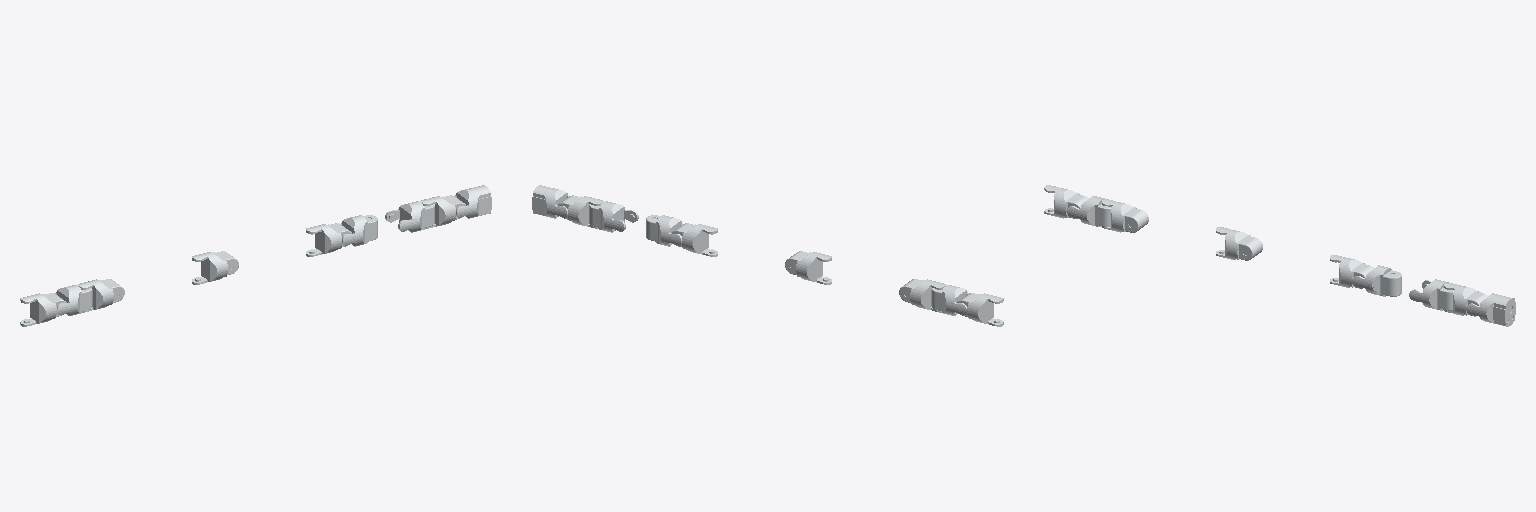
The robot description file, URDF, robot "kanake6_sim_0808_4.SLDASM":
<?xml version="1.0" encoding="utf-8"?>
<!-- This URDF was automatically created by SolidWorks to URDF Exporter! Originally created by Stephen Brawner (brawner@gmail.com) 
     Commit Version: 1.6.0-1-g15f4949  Build Version: 1.6.7594.29634
     For more information, please see http://wiki.ros.org/sw_urdf_exporter -->
<robot
  name="kanake6_sim_0808_4.SLDASM">
  <link
    name="head">
    <inertial>
      <origin
        xyz="-0.0202156710748115 -1.43465418462842E-07 -1.56480055908645E-06"
        rpy="0 0 0" />
      <mass
        value="0.0366319470948477" />
      <inertia
        ixx="6.20591511809944E-06"
        ixy="-5.30087560675052E-11"
        ixz="1.18696434390736E-09"
        iyy="8.25464507263961E-06"
        iyz="-2.13167538413562E-10"
        izz="7.9841166433742E-06" />
    </inertial>
    <visual>
      <origin
        xyz="0 0 0"
        rpy="0 0 0" />
      <geometry>
        <mesh
          filename="package://kanake6_sim_0808_4.SLDASM/meshes/head.STL" />
      </geometry>
      <material
        name="">
        <color
          rgba="0.894117647058823 0.913725490196078 0.929411764705882 1" />
      </material>
    </visual>
    <collision>
      <origin
        xyz="0 0 0"
        rpy="0 0 0" />
      <geometry>
        <mesh
          filename="package://kanake6_sim_0808_4.SLDASM/meshes/head.STL" />
      </geometry>
    </collision>
  </link>
  <link
    name="Link1">
    <inertial>
      <origin
        xyz="-0.0149144121017575 -3.73601402370638E-07 2.49693079046398E-08"
        rpy="0 0 0" />
      <mass
        value="0.0712511533582805" />
      <inertia
        ixx="1.04159884007023E-05"
        ixy="1.86218037779566E-10"
        ixz="-3.01043285853867E-11"
        iyy="1.64748507384434E-05"
        iyz="-1.82879175460889E-10"
        izz="1.64641321531213E-05" />
    </inertial>
    <visual>
      <origin
        xyz="0 0 0"
        rpy="0 0 0" />
      <geometry>
        <mesh
          filename="package://kanake6_sim_0808_4.SLDASM/meshes/Link1.STL" />
      </geometry>
      <material
        name="">
        <color
          rgba="0.894117647058823 0.913725490196078 0.929411764705882 1" />
      </material>
    </visual>
    <collision>
      <origin
        xyz="0 0 0"
        rpy="0 0 0" />
      <geometry>
        <mesh
          filename="package://kanake6_sim_0808_4.SLDASM/meshes/Link1.STL" />
      </geometry>
    </collision>
  </link>
  <joint
    name="j1"
    type="revolute">
    <origin
      xyz="-0.0473500000047962 0 0"
      rpy="-1.5707963267949 0 0" />
    <parent
      link="head" />
    <child
      link="Link1" />
    <axis
      xyz="0 0 1" />
    <limit
      lower="0"
      upper="0"
      effort="0"
      velocity="0" />
  </joint>
  <link
    name="Link2">
    <inertial>
      <origin
        xyz="-0.0149144121027439 3.73601402673656E-07 -2.49693082275148E-08"
        rpy="0 0 0" />
      <mass
        value="0.0712511533582804" />
      <inertia
        ixx="1.04159884007023E-05"
        ixy="-1.86218037781345E-10"
        ixz="3.01043285841085E-11"
        iyy="1.64748507384434E-05"
        iyz="-1.8287917545946E-10"
        izz="1.64641321531213E-05" />
    </inertial>
    <visual>
      <origin
        xyz="0 0 0"
        rpy="0 0 0" />
      <geometry>
        <mesh
          filename="package://kanake6_sim_0808_4.SLDASM/meshes/Link2.STL" />
      </geometry>
      <material
        name="">
        <color
          rgba="0.894117647058823 0.913725490196078 0.929411764705882 1" />
      </material>
    </visual>
    <collision>
      <origin
        xyz="0 0 0"
        rpy="0 0 0" />
      <geometry>
        <mesh
          filename="package://kanake6_sim_0808_4.SLDASM/meshes/Link2.STL" />
      </geometry>
    </collision>
  </link>
  <joint
    name="j2"
    type="revolute">
    <origin
      xyz="-0.0426 0 0"
      rpy="1.5707963267949 0 0" />
    <parent
      link="Link1" />
    <child
      link="Link2" />
    <axis
      xyz="0 0 1" />
    <limit
      lower="0"
      upper="0"
      effort="0"
      velocity="0" />
  </joint>
  <link
    name="Link3">
    <inertial>
      <origin
        xyz="-0.0149144121037305 -3.73601402389964E-07 2.49693078994172E-08"
        rpy="0 0 0" />
      <mass
        value="0.0712511533582807" />
      <inertia
        ixx="1.04159884007024E-05"
        ixy="1.86218037778639E-10"
        ixz="-3.01043285855072E-11"
        iyy="1.64748507384434E-05"
        iyz="-1.8287917546012E-10"
        izz="1.64641321531213E-05" />
    </inertial>
    <visual>
      <origin
        xyz="0 0 0"
        rpy="0 0 0" />
      <geometry>
        <mesh
          filename="package://kanake6_sim_0808_4.SLDASM/meshes/Link3.STL" />
      </geometry>
      <material
        name="">
        <color
          rgba="0.894117647058823 0.913725490196078 0.929411764705882 1" />
      </material>
    </visual>
    <collision>
      <origin
        xyz="0 0 0"
        rpy="0 0 0" />
      <geometry>
        <mesh
          filename="package://kanake6_sim_0808_4.SLDASM/meshes/Link3.STL" />
      </geometry>
    </collision>
  </link>
  <joint
    name="j3"
    type="revolute">
    <origin
      xyz="-0.0426 0 0"
      rpy="-1.5707963267949 0 0" />
    <parent
      link="Link2" />
    <child
      link="Link3" />
    <axis
      xyz="0 0 1" />
    <limit
      lower="0"
      upper="0"
      effort="0"
      velocity="0" />
  </joint>
  <link
    name="Link4">
    <inertial>
      <origin
        xyz="-0.014914412104717 3.73601402679989E-07 -2.49693078684838E-08"
        rpy="0 0 0" />
      <mass
        value="0.0712511533582804" />
      <inertia
        ixx="1.04159884007023E-05"
        ixy="-1.86218037781387E-10"
        ixz="3.01043285846702E-11"
        iyy="1.64748507384434E-05"
        iyz="-1.82879175459146E-10"
        izz="1.64641321531213E-05" />
    </inertial>
    <visual>
      <origin
        xyz="0 0 0"
        rpy="0 0 0" />
      <geometry>
        <mesh
          filename="package://kanake6_sim_0808_4.SLDASM/meshes/Link4.STL" />
      </geometry>
      <material
        name="">
        <color
          rgba="0.894117647058823 0.913725490196078 0.929411764705882 1" />
      </material>
    </visual>
    <collision>
      <origin
        xyz="0 0 0"
        rpy="0 0 0" />
      <geometry>
        <mesh
          filename="package://kanake6_sim_0808_4.SLDASM/meshes/Link4.STL" />
      </geometry>
    </collision>
  </link>
  <joint
    name="j4"
    type="revolute">
    <origin
      xyz="-0.0426000000000001 0 0"
      rpy="1.5707963267949 0 0" />
    <parent
      link="Link3" />
    <child
      link="Link4" />
    <axis
      xyz="0 0 1" />
    <limit
      lower="0"
      upper="0"
      effort="0"
      velocity="0" />
  </joint>
  <link
    name="Link5">
    <inertial>
      <origin
        xyz="-0.0149144121057032 -3.73601402771206E-07 2.49693078958993E-08"
        rpy="0 0 0" />
      <mass
        value="0.0712511533582805" />
      <inertia
        ixx="1.04159884007023E-05"
        ixy="1.86218037769402E-10"
        ixz="-3.01043285813447E-11"
        iyy="1.64748507384434E-05"
        iyz="-1.82879175458866E-10"
        izz="1.64641321531213E-05" />
    </inertial>
    <visual>
      <origin
        xyz="0 0 0"
        rpy="0 0 0" />
      <geometry>
        <mesh
          filename="package://kanake6_sim_0808_4.SLDASM/meshes/Link5.STL" />
      </geometry>
      <material
        name="">
        <color
          rgba="0.894117647058823 0.913725490196078 0.929411764705882 1" />
      </material>
    </visual>
    <collision>
      <origin
        xyz="0 0 0"
        rpy="0 0 0" />
      <geometry>
        <mesh
          filename="package://kanake6_sim_0808_4.SLDASM/meshes/Link5.STL" />
      </geometry>
    </collision>
  </link>
  <joint
    name="j5"
    type="revolute">
    <origin
      xyz="-0.0426 0 0"
      rpy="-1.5707963267949 0 0" />
    <parent
      link="Link4" />
    <child
      link="Link5" />
    <axis
      xyz="0 0 1" />
    <limit
      lower="0"
      upper="0"
      effort="0"
      velocity="0" />
  </joint>
  <link
    name="Link6">
    <inertial>
      <origin
        xyz="-0.0149144121066896 3.73601402685979E-07 -2.49693064988724E-08"
        rpy="0 0 0" />
      <mass
        value="0.0712511533582805" />
      <inertia
        ixx="1.04159884007023E-05"
        ixy="-1.86218037775192E-10"
        ixz="3.01043285873544E-11"
        iyy="1.64748507384434E-05"
        iyz="-1.82879175459083E-10"
        izz="1.64641321531214E-05" />
    </inertial>
    <visual>
      <origin
        xyz="0 0 0"
        rpy="0 0 0" />
      <geometry>
        <mesh
          filename="package://kanake6_sim_0808_4.SLDASM/meshes/Link6.STL" />
      </geometry>
      <material
        name="">
        <color
          rgba="0.894117647058823 0.913725490196078 0.929411764705882 1" />
      </material>
    </visual>
    <collision>
      <origin
        xyz="0 0 0"
        rpy="0 0 0" />
      <geometry>
        <mesh
          filename="package://kanake6_sim_0808_4.SLDASM/meshes/Link6.STL" />
      </geometry>
    </collision>
  </link>
  <joint
    name="j6"
    type="revolute">
    <origin
      xyz="-0.0426 0 0"
      rpy="1.5708 0 0" />
    <parent
      link="Link5" />
    <child
      link="Link6" />
    <axis
      xyz="0 0 1" />
    <limit
      lower="0"
      upper="0"
      effort="0"
      velocity="0" />
  </joint>
  <link
    name="Link7">
    <inertial>
      <origin
        xyz="-0.014914412107676 -3.73601404135501E-07 2.49693078945668E-08"
        rpy="0 0 0" />
      <mass
        value="0.0712511533582806" />
      <inertia
        ixx="1.04159884007023E-05"
        ixy="1.86218037787259E-10"
        ixz="-3.01043285861876E-11"
        iyy="1.64748507384434E-05"
        iyz="-1.82879175460281E-10"
        izz="1.64641321531214E-05" />
    </inertial>
    <visual>
      <origin
        xyz="0 0 0"
        rpy="0 0 0" />
      <geometry>
        <mesh
          filename="package://kanake6_sim_0808_4.SLDASM/meshes/Link7.STL" />
      </geometry>
      <material
        name="">
        <color
          rgba="0.894117647058823 0.913725490196078 0.929411764705882 1" />
      </material>
    </visual>
    <collision>
      <origin
        xyz="0 0 0"
        rpy="0 0 0" />
      <geometry>
        <mesh
          filename="package://kanake6_sim_0808_4.SLDASM/meshes/Link7.STL" />
      </geometry>
    </collision>
  </link>
  <joint
    name="j7"
    type="revolute">
    <origin
      xyz="-0.0426 0 0"
      rpy="-1.5707963267949 0 0" />
    <parent
      link="Link6" />
    <child
      link="Link7" />
    <axis
      xyz="0 0 1" />
    <limit
      lower="0"
      upper="0"
      effort="0"
      velocity="0" />
  </joint>
  <link
    name="Link8">
    <inertial>
      <origin
        xyz="-0.0149144121086625 3.73601402681106E-07 -2.49693065571068E-08"
        rpy="0 0 0" />
      <mass
        value="0.0712511533582805" />
      <inertia
        ixx="1.04159884007023E-05"
        ixy="-1.86218037774057E-10"
        ixz="3.01043285848922E-11"
        iyy="1.64748507384434E-05"
        iyz="-1.82879175459633E-10"
        izz="1.64641321531214E-05" />
    </inertial>
    <visual>
      <origin
        xyz="0 0 0"
        rpy="0 0 0" />
      <geometry>
        <mesh
          filename="package://kanake6_sim_0808_4.SLDASM/meshes/Link8.STL" />
      </geometry>
      <material
        name="">
        <color
          rgba="0.894117647058823 0.913725490196078 0.929411764705882 1" />
      </material>
    </visual>
    <collision>
      <origin
        xyz="0 0 0"
        rpy="0 0 0" />
      <geometry>
        <mesh
          filename="package://kanake6_sim_0808_4.SLDASM/meshes/Link8.STL" />
      </geometry>
    </collision>
  </link>
  <joint
    name="j8"
    type="revolute">
    <origin
      xyz="-0.0426 0 0"
      rpy="1.5707963267949 0 0" />
    <parent
      link="Link7" />
    <child
      link="Link8" />
    <axis
      xyz="0 0 1" />
    <limit
      lower="0"
      upper="0"
      effort="0"
      velocity="0" />
  </joint>
  <link
    name="Link9">
    <inertial>
      <origin
        xyz="-0.0149144121096488 -3.73601403966509E-07 2.49693079023524E-08"
        rpy="0 0 0" />
      <mass
        value="0.0712511533582805" />
      <inertia
        ixx="1.04159884007023E-05"
        ixy="1.86218037784249E-10"
        ixz="-3.01043285852313E-11"
        iyy="1.64748507384434E-05"
        iyz="-1.82879175458617E-10"
        izz="1.64641321531213E-05" />
    </inertial>
    <visual>
      <origin
        xyz="0 0 0"
        rpy="0 0 0" />
      <geometry>
        <mesh
          filename="package://kanake6_sim_0808_4.SLDASM/meshes/Link9.STL" />
      </geometry>
      <material
        name="">
        <color
          rgba="0.894117647058823 0.913725490196078 0.929411764705882 1" />
      </material>
    </visual>
    <collision>
      <origin
        xyz="0 0 0"
        rpy="0 0 0" />
      <geometry>
        <mesh
          filename="package://kanake6_sim_0808_4.SLDASM/meshes/Link9.STL" />
      </geometry>
    </collision>
  </link>
  <joint
    name="j9"
    type="revolute">
    <origin
      xyz="-0.0426 0 0"
      rpy="-1.5707963267949 0 0" />
    <parent
      link="Link8" />
    <child
      link="Link9" />
    <axis
      xyz="0 0 1" />
    <limit
      lower="0"
      upper="0"
      effort="0"
      velocity="0" />
  </joint>
  <link
    name="Link10">
    <inertial>
      <origin
        xyz="-0.0149144121106352 3.73601402682021E-07 -2.49693066177178E-08"
        rpy="0 0 0" />
      <mass
        value="0.0712511533582806" />
      <inertia
        ixx="1.04159884007023E-05"
        ixy="-1.86218037776686E-10"
        ixz="3.01043285870288E-11"
        iyy="1.64748507384434E-05"
        iyz="-1.82879175460266E-10"
        izz="1.64641321531214E-05" />
    </inertial>
    <visual>
      <origin
        xyz="0 0 0"
        rpy="0 0 0" />
      <geometry>
        <mesh
          filename="package://kanake6_sim_0808_4.SLDASM/meshes/Link10.STL" />
      </geometry>
      <material
        name="">
        <color
          rgba="0.894117647058823 0.913725490196078 0.929411764705882 1" />
      </material>
    </visual>
    <collision>
      <origin
        xyz="0 0 0"
        rpy="0 0 0" />
      <geometry>
        <mesh
          filename="package://kanake6_sim_0808_4.SLDASM/meshes/Link10.STL" />
      </geometry>
    </collision>
  </link>
  <joint
    name="j10"
    type="revolute">
    <origin
      xyz="-0.0426 0 0"
      rpy="1.5707963267949 0 0" />
    <parent
      link="Link9" />
    <child
      link="Link10" />
    <axis
      xyz="0 0 1" />
    <limit
      lower="0"
      upper="0"
      effort="0"
      velocity="0" />
  </joint>
  <link
    name="Link11">
    <inertial>
      <origin
        xyz="-0.0149144121016217 -3.73601403947252E-07 2.49693079064027E-08"
        rpy="0 0 0" />
      <mass
        value="0.0712511533582805" />
      <inertia
        ixx="1.04159884007023E-05"
        ixy="1.86218037780712E-10"
        ixz="-3.01043285810132E-11"
        iyy="1.64748507384434E-05"
        iyz="-1.82879175458604E-10"
        izz="1.64641321531213E-05" />
    </inertial>
    <visual>
      <origin
        xyz="0 0 0"
        rpy="0 0 0" />
      <geometry>
        <mesh
          filename="package://kanake6_sim_0808_4.SLDASM/meshes/Link11.STL" />
      </geometry>
      <material
        name="">
        <color
          rgba="0.894117647058823 0.913725490196078 0.929411764705882 1" />
      </material>
    </visual>
    <collision>
      <origin
        xyz="0 0 0"
        rpy="0 0 0" />
      <geometry>
        <mesh
          filename="package://kanake6_sim_0808_4.SLDASM/meshes/Link11.STL" />
      </geometry>
    </collision>
  </link>
  <joint
    name="j11"
    type="revolute">
    <origin
      xyz="-0.04260000001 0 0"
      rpy="-1.5707963267949 0 0" />
    <parent
      link="Link10" />
    <child
      link="Link11" />
    <axis
      xyz="0 0 1" />
    <limit
      lower="0"
      upper="0"
      effort="0"
      velocity="0" />
  </joint>
  <link
    name="Link12">
    <inertial>
      <origin
        xyz="-0.0149144121026081 3.7360140266623E-07 -2.49693066434054E-08"
        rpy="0 0 0" />
      <mass
        value="0.0712511533582805" />
      <inertia
        ixx="1.04159884007023E-05"
        ixy="-1.86218037778163E-10"
        ixz="3.01043285854559E-11"
        iyy="1.64748507384434E-05"
        iyz="-1.82879175458545E-10"
        izz="1.64641321531213E-05" />
    </inertial>
    <visual>
      <origin
        xyz="0 0 0"
        rpy="0 0 0" />
      <geometry>
        <mesh
          filename="package://kanake6_sim_0808_4.SLDASM/meshes/Link12.STL" />
      </geometry>
      <material
        name="">
        <color
          rgba="0.894117647058823 0.913725490196078 0.929411764705882 1" />
      </material>
    </visual>
    <collision>
      <origin
        xyz="0 0 0"
        rpy="0 0 0" />
      <geometry>
        <mesh
          filename="package://kanake6_sim_0808_4.SLDASM/meshes/Link12.STL" />
      </geometry>
    </collision>
  </link>
  <joint
    name="j12"
    type="revolute">
    <origin
      xyz="-0.0426 0 0"
      rpy="1.5707963267949 0 0" />
    <parent
      link="Link11" />
    <child
      link="Link12" />
    <axis
      xyz="0 0 1" />
    <limit
      lower="0"
      upper="0"
      effort="0"
      velocity="0" />
  </joint>
  <link
    name="Link13">
    <inertial>
      <origin
        xyz="-0.0149144121035945 -3.73601403985894E-07 2.4969307889184E-08"
        rpy="0 0 0" />
      <mass
        value="0.0712511533582805" />
      <inertia
        ixx="1.04159884007023E-05"
        ixy="1.86218037769167E-10"
        ixz="-3.01043285852837E-11"
        iyy="1.64748507384434E-05"
        iyz="-1.82879175459957E-10"
        izz="1.64641321531214E-05" />
    </inertial>
    <visual>
      <origin
        xyz="0 0 0"
        rpy="0 0 0" />
      <geometry>
        <mesh
          filename="package://kanake6_sim_0808_4.SLDASM/meshes/Link13.STL" />
      </geometry>
      <material
        name="">
        <color
          rgba="0.894117647058823 0.913725490196078 0.929411764705882 1" />
      </material>
    </visual>
    <collision>
      <origin
        xyz="0 0 0"
        rpy="0 0 0" />
      <geometry>
        <mesh
          filename="package://kanake6_sim_0808_4.SLDASM/meshes/Link13.STL" />
      </geometry>
    </collision>
  </link>
  <joint
    name="j13"
    type="revolute">
    <origin
      xyz="-0.0426 0 0"
      rpy="-1.5707963267949 0 0" />
    <parent
      link="Link12" />
    <child
      link="Link13" />
    <axis
      xyz="0 0 1" />
    <limit
      lower="0"
      upper="0"
      effort="0"
      velocity="0" />
  </joint>
  <link
    name="Link14">
    <inertial>
      <origin
        xyz="-0.014914412104581 3.7360140268683E-07 -2.49693066062861E-08"
        rpy="0 0 0" />
      <mass
        value="0.0712511533582805" />
      <inertia
        ixx="1.04159884007023E-05"
        ixy="-1.86218037776627E-10"
        ixz="3.01043285849108E-11"
        iyy="1.64748507384434E-05"
        iyz="-1.82879175460148E-10"
        izz="1.64641321531214E-05" />
    </inertial>
    <visual>
      <origin
        xyz="0 0 0"
        rpy="0 0 0" />
      <geometry>
        <mesh
          filename="package://kanake6_sim_0808_4.SLDASM/meshes/Link14.STL" />
      </geometry>
      <material
        name="">
        <color
          rgba="0.894117647058823 0.913725490196078 0.929411764705882 1" />
      </material>
    </visual>
    <collision>
      <origin
        xyz="0 0 0"
        rpy="0 0 0" />
      <geometry>
        <mesh
          filename="package://kanake6_sim_0808_4.SLDASM/meshes/Link14.STL" />
      </geometry>
    </collision>
  </link>
  <joint
    name="j14"
    type="revolute">
    <origin
      xyz="-0.0426 0 0"
      rpy="1.5707963267949 0 0" />
    <parent
      link="Link13" />
    <child
      link="Link14" />
    <axis
      xyz="0 0 1" />
    <limit
      lower="0"
      upper="0"
      effort="0"
      velocity="0" />
  </joint>
  <link
    name="Link15">
    <inertial>
      <origin
        xyz="-0.0149144121055674 -3.73601403994292E-07 2.49693079071226E-08"
        rpy="0 0 0" />
      <mass
        value="0.0712511533582805" />
      <inertia
        ixx="1.04159884007023E-05"
        ixy="1.86218037776854E-10"
        ixz="-3.01043285841821E-11"
        iyy="1.64748507384434E-05"
        iyz="-1.82879175458843E-10"
        izz="1.64641321531214E-05" />
    </inertial>
    <visual>
      <origin
        xyz="0 0 0"
        rpy="0 0 0" />
      <geometry>
        <mesh
          filename="package://kanake6_sim_0808_4.SLDASM/meshes/Link15.STL" />
      </geometry>
      <material
        name="">
        <color
          rgba="0.894117647058823 0.913725490196078 0.929411764705882 1" />
      </material>
    </visual>
    <collision>
      <origin
        xyz="0 0 0"
        rpy="0 0 0" />
      <geometry>
        <mesh
          filename="package://kanake6_sim_0808_4.SLDASM/meshes/Link15.STL" />
      </geometry>
    </collision>
  </link>
  <joint
    name="j15"
    type="revolute">
    <origin
      xyz="-0.0426 0 0"
      rpy="-1.5707963267949 0 0" />
    <parent
      link="Link14" />
    <child
      link="Link15" />
    <axis
      xyz="0 0 1" />
    <limit
      lower="0"
      upper="0"
      effort="0"
      velocity="0" />
  </joint>
  <link
    name="tail">
    <inertial>
      <origin
        xyz="-0.029369081482287 -1.78870155543698E-06 -7.22138155213988E-09"
        rpy="0 0 0" />
      <mass
        value="0.101630885268055" />
      <inertia
        ixx="1.48846790268216E-05"
        ixy="3.12521137612277E-09"
        ixz="-1.03182631288335E-12"
        iyy="4.61731081327436E-05"
        iyz="-1.31870601123907E-09"
        izz="4.52018388107927E-05" />
    </inertial>
    <visual>
      <origin
        xyz="0 0 0"
        rpy="0 0 0" />
      <geometry>
        <mesh
          filename="package://kanake6_sim_0808_4.SLDASM/meshes/tail.STL" />
      </geometry>
      <material
        name="">
        <color
          rgba="0.894117647058823 0.913725490196078 0.929411764705882 1" />
      </material>
    </visual>
    <collision>
      <origin
        xyz="0 0 0"
        rpy="0 0 0" />
      <geometry>
        <mesh
          filename="package://kanake6_sim_0808_4.SLDASM/meshes/tail.STL" />
      </geometry>
    </collision>
  </link>
  <joint
    name="j16"
    type="revolute">
    <origin
      xyz="-0.0426 0 0"
      rpy="1.5707963267949 0 0" />
    <parent
      link="Link15" />
    <child
      link="tail" />
    <axis
      xyz="0 0 1" />
    <limit
      lower="0"
      upper="0"
      effort="0"
      velocity="0" />
  </joint>
</robot>

--- Render facts (derived) ---
The picture shows the robot from 3 angles, left to right: view 1: azimuth 30°, elevation 25°; view 2: azimuth 150°, elevation 25°; view 3: azimuth 330°, elevation 25°; orthographic projection.
Robot: kanake6_sim_0808_4.SLDASM — 17 links, 16 joints (16 revolute); root link head; default pose: every joint at zero.
Visible links, largest first — view 1: Link2, Link9, Link15, Link5, head, Link4, Link14, Link13, Link1; view 2: Link2, Link9, Link15, Link5, head, Link4, Link14, Link13, Link1; view 3: head, Link4, Link9, Link13, Link2, Link14, Link15, Link5, Link1.
Link boxes in pixels (box(x1,y1,x2,y2)): Link2: box(385, 201, 434, 232); Link9: box(192, 251, 238, 284); Link15: box(20, 293, 66, 326); Link5: box(306, 223, 351, 256); head: box(455, 185, 491, 218); Link4: box(341, 215, 377, 246); Link14: box(55, 285, 92, 315); Link13: box(78, 279, 124, 312); Link1: box(420, 195, 465, 228); Link2: box(589, 201, 638, 232); Link9: box(785, 251, 831, 284); Link15: box(957, 293, 1003, 326); Link5: box(672, 223, 717, 256); head: box(532, 185, 568, 218); Link4: box(646, 215, 682, 246); Link14: box(931, 285, 968, 315); Link13: box(899, 279, 945, 312); Link1: box(558, 195, 603, 228); head: box(1466, 293, 1515, 326); Link4: box(1352, 265, 1401, 296); Link9: box(1216, 227, 1262, 260); Link13: box(1102, 199, 1148, 232); Link2: box(1409, 279, 1453, 310); Link14: box(1066, 196, 1111, 226); Link15: box(1044, 185, 1088, 218); Link5: box(1330, 255, 1373, 288); Link1: box(1444, 283, 1487, 316).
Size in the robot's own frame: 0.6944 by 0.038 by 0.038 metres.
9 mesh visuals loaded from 17 distinct referenced files (9 binary STL); not drawn: 8 (reference not matched to a file when rendering).
